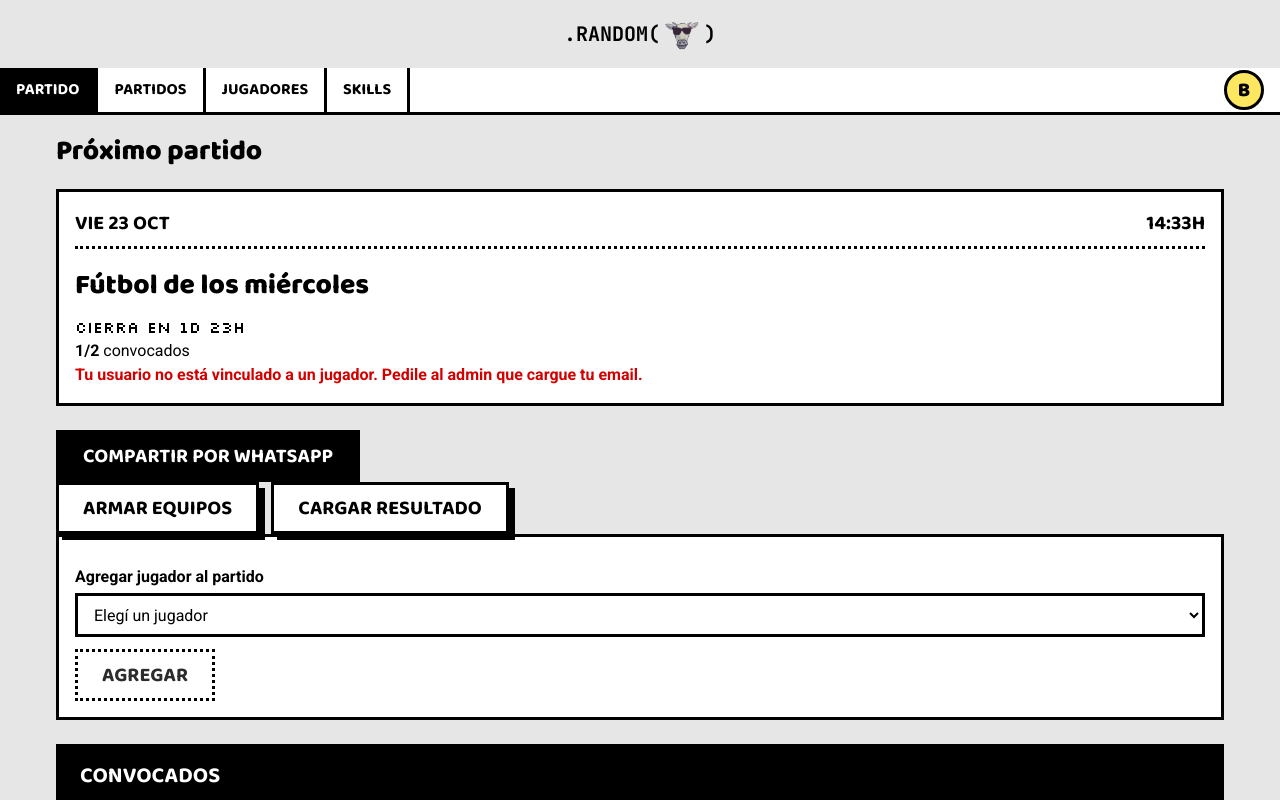
pestaña Partido › admin agrega a un jugador y saca a otro
Check: the option "Ana" is not shown
Select "Juan" in the dropdown labelled "Agregar jugador al partido". click: point(640, 615)
box: [75,593,1205,637]
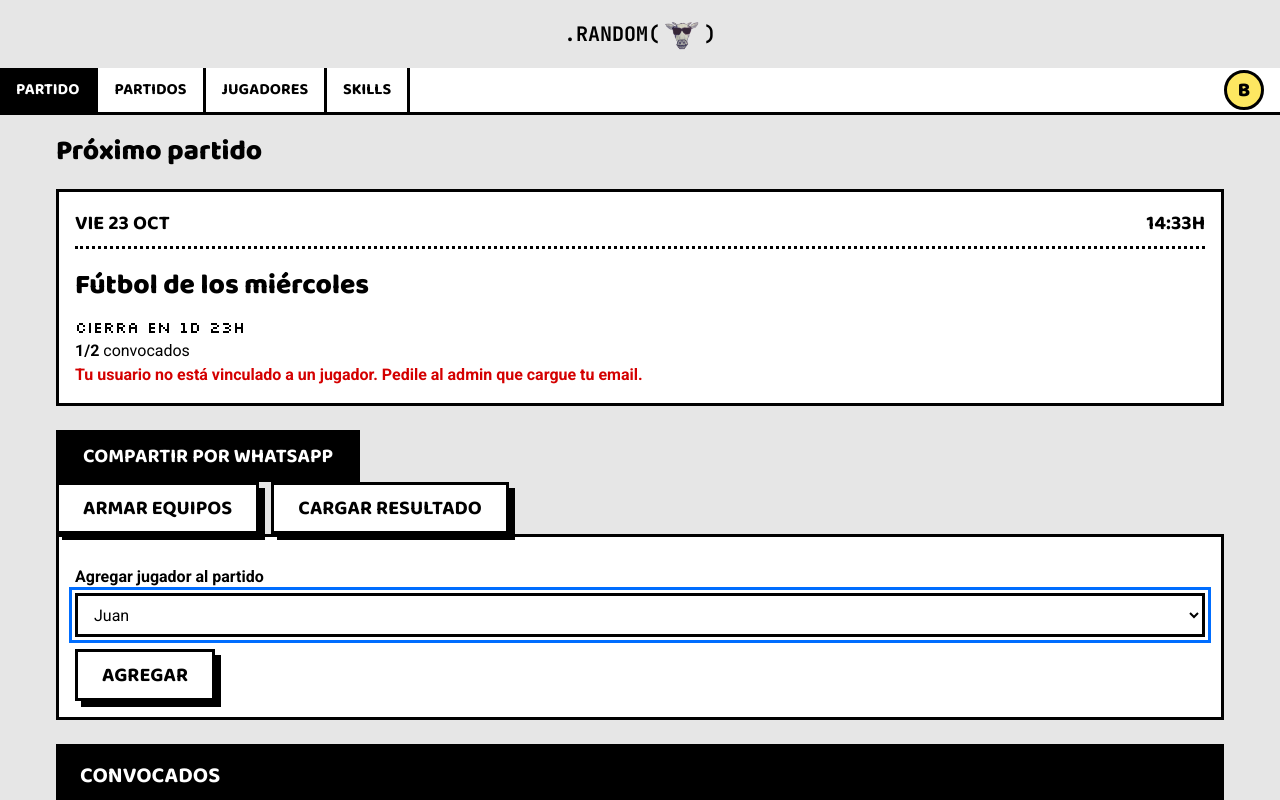
Click the button "Agregar". click: point(145, 675)
box: [75,649,215,701]
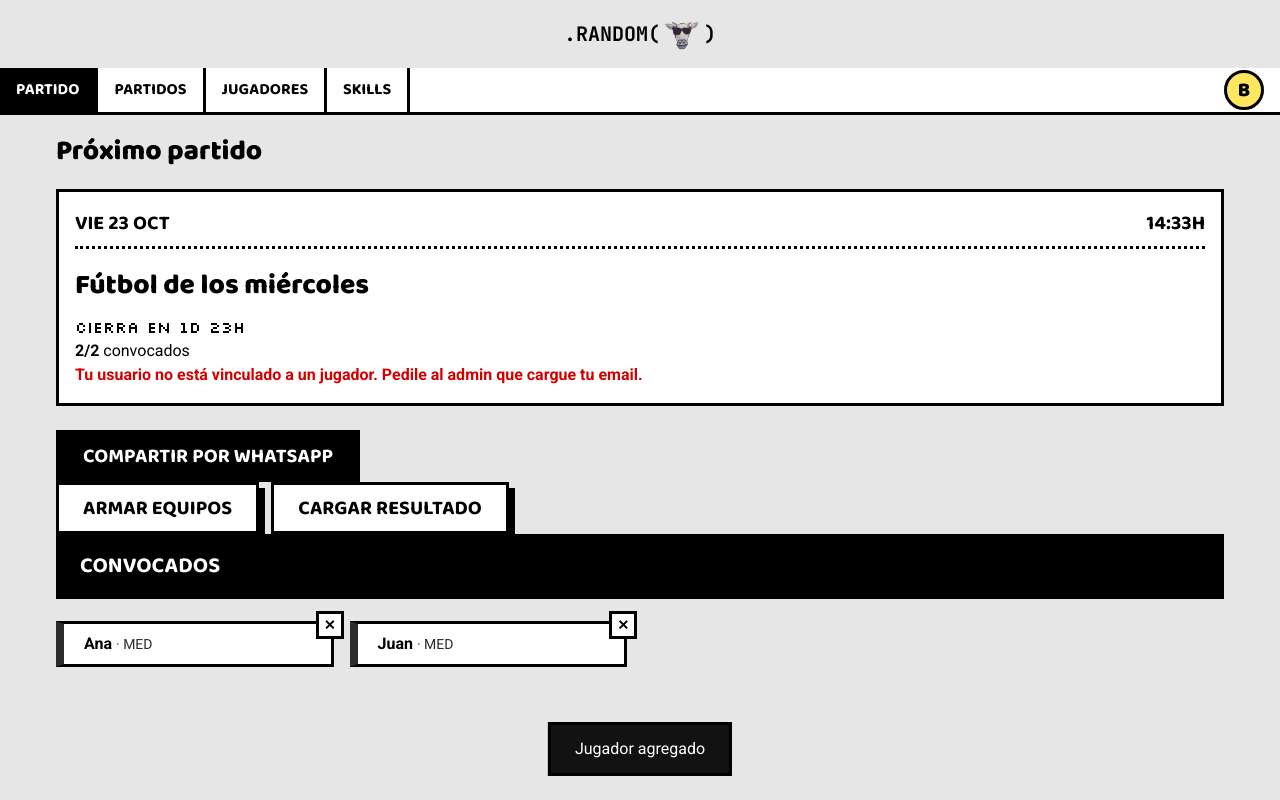
Check: the button named "Sacar a Juan" is shown, box [609,611,637,639]
Click the button named "Sacar a Ana". click: point(330, 625)
box: [316,611,344,639]
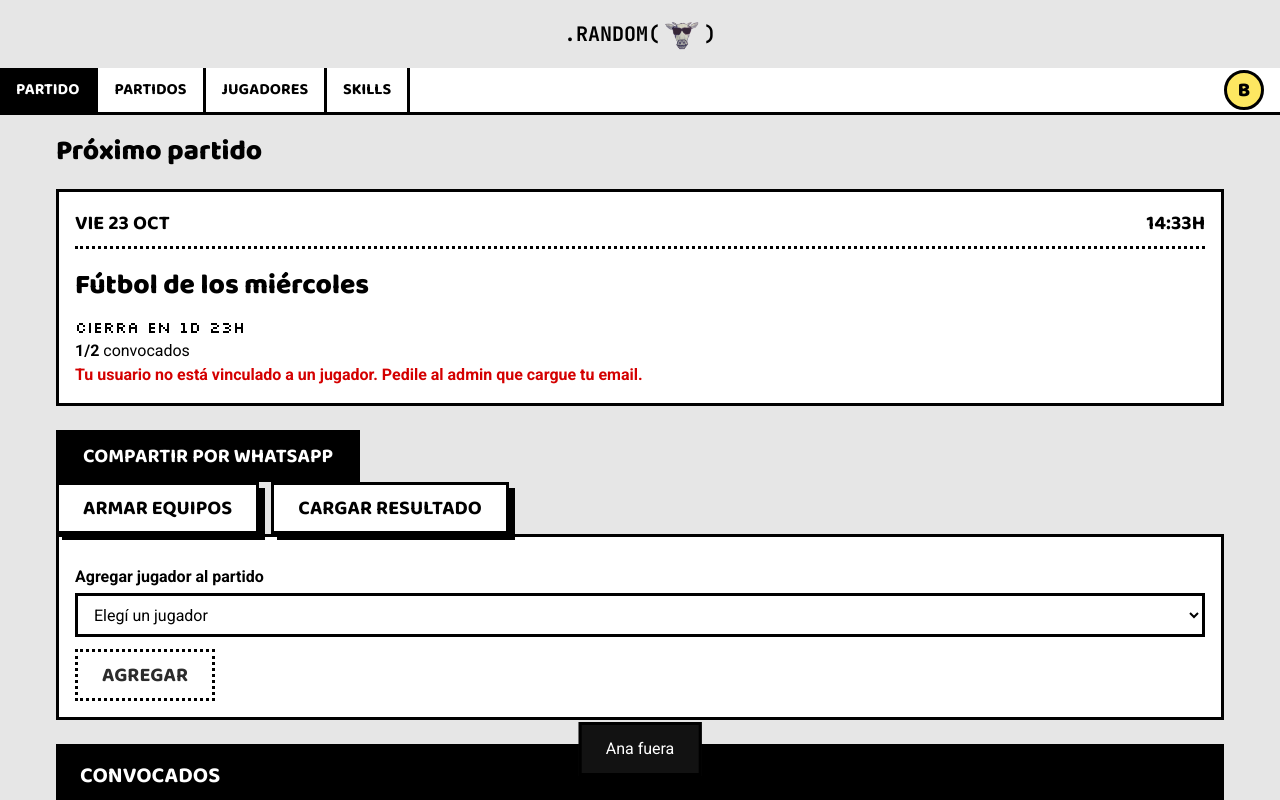
Check: the message reads "Ana fuera", box [606,739,674,758]
